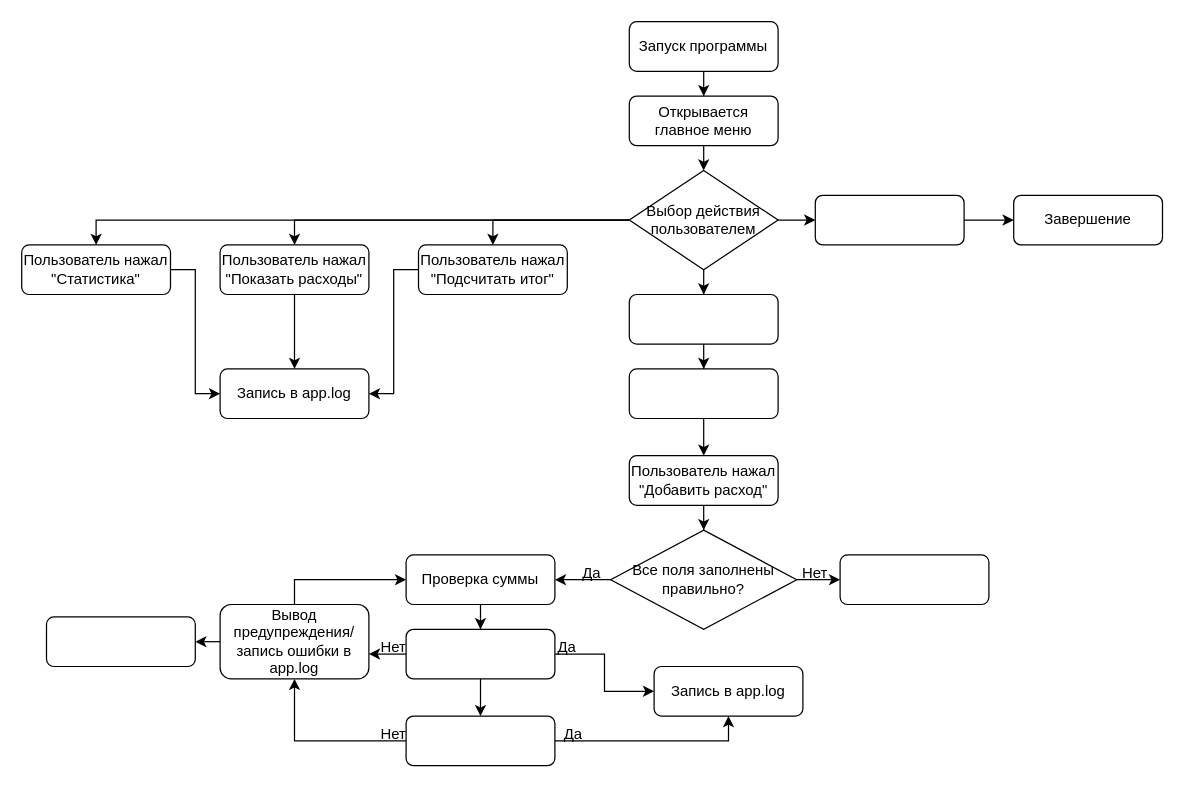
This 1184x787 diagram has some shape labels left out. The centre of each missing label's shape, as x and y in pixels:
"Ввод суммы,категории,даты, комментария" goes at (703,393).
"Возврат к заполнению полей" goes at (120,641).
"Дата корректна?" goes at (480,740).
"Если пользователь решил добавить новую запись" goes at (703,318).
"Пользователь закрыл программу" goes at (889,219).
"Предупреждение и просьба заполнить поля корректно" goes at (914,579).
"Сумма > 0?" goes at (480,653).
